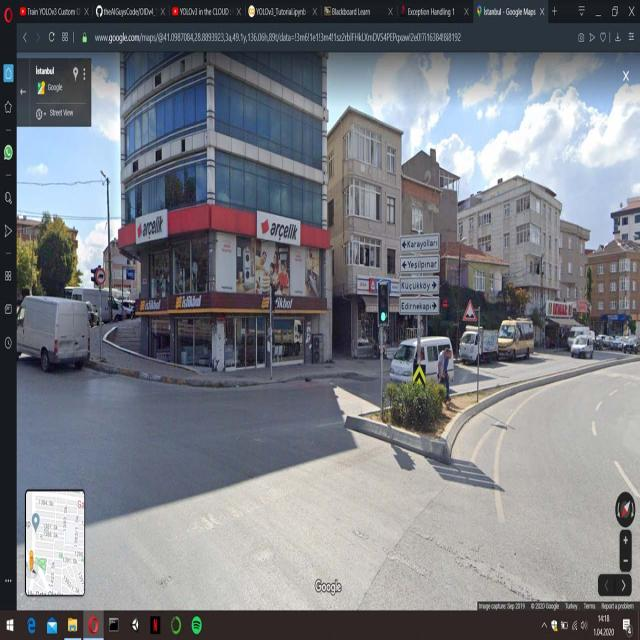yesil: (379, 281, 387, 324)
